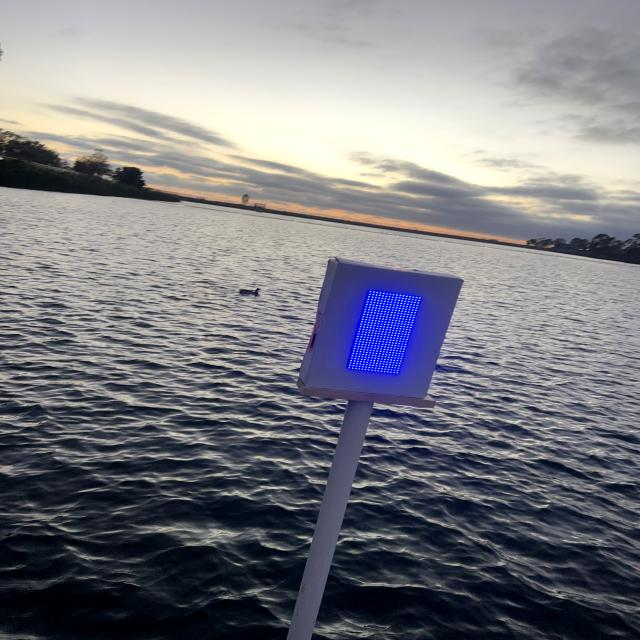led: (331, 268, 429, 396)
